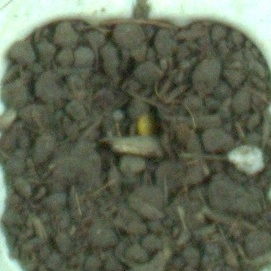chilli seed: (130, 108, 163, 144)
